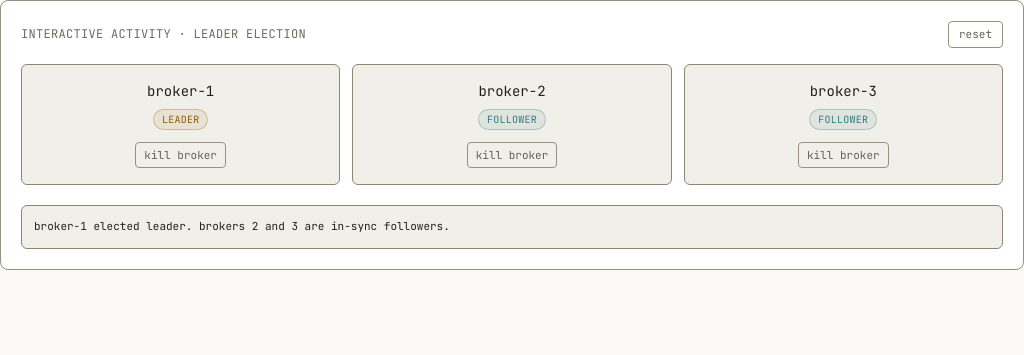
LeaderElectionDemo › puts a restarted broker into recovering, not directly back into the ISR
Click the 2nd button "kill broker" at (512, 155), box [467,142,557,168]
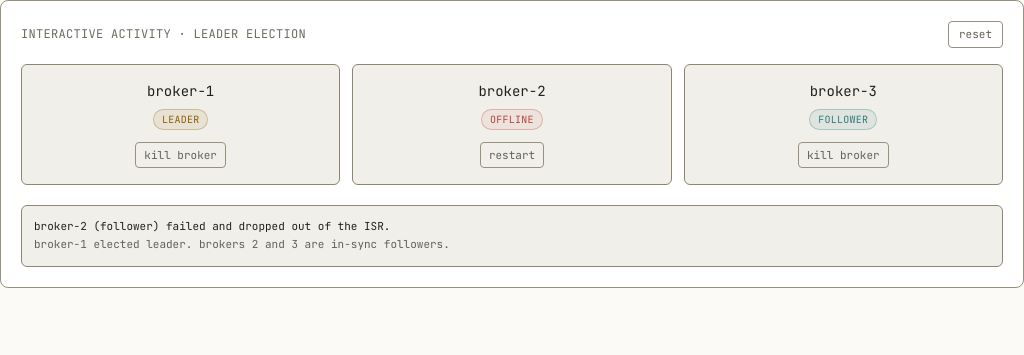
Click the button "restart" at (512, 155), box [480,142,544,168]
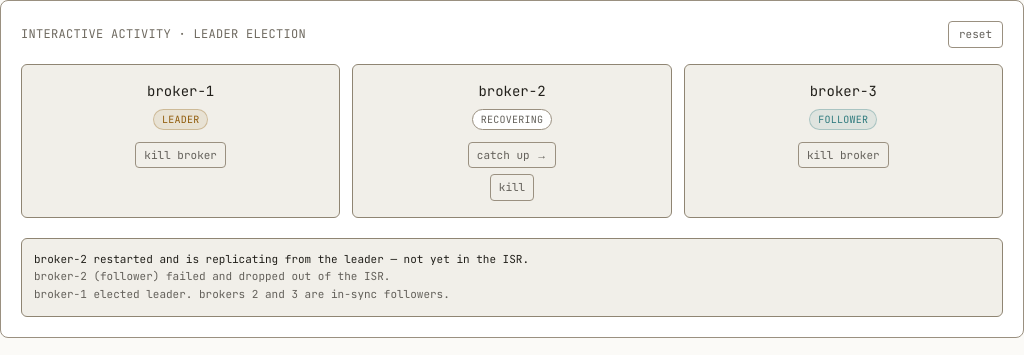
Expected: the text "broker-2 restarted and is replicating from the leader — not yet in the ISR." is shown, [34,252,529,266]
